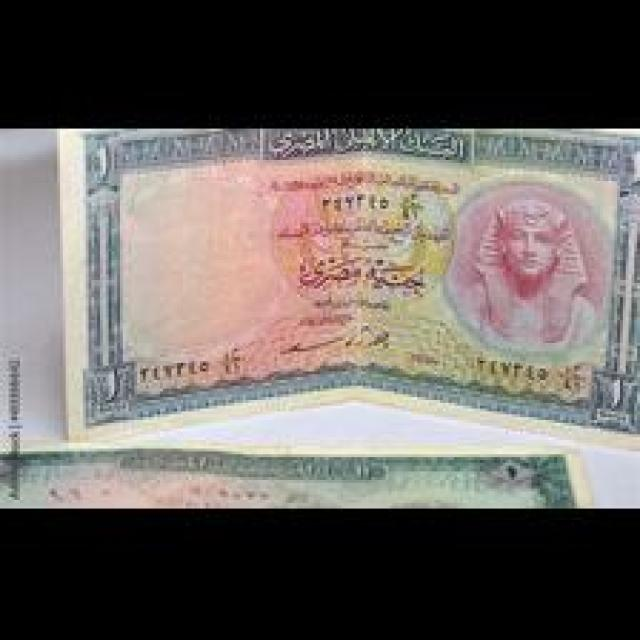banknote: (54, 126, 637, 457)
